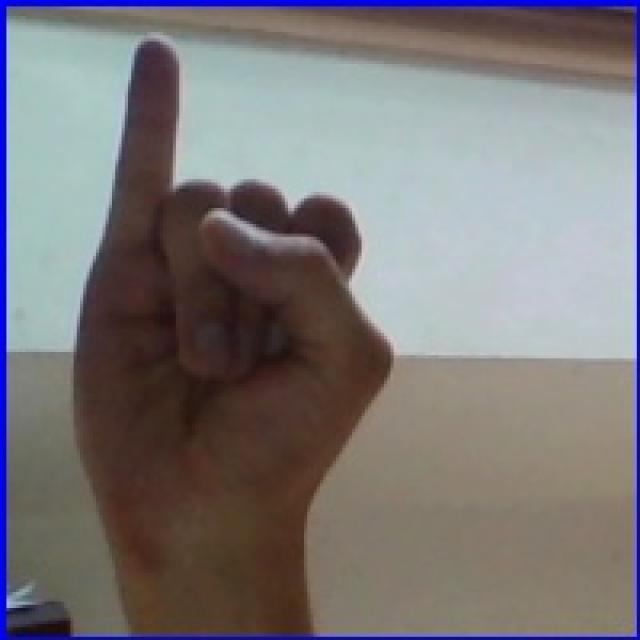Letra I: (38, 12, 412, 598)
